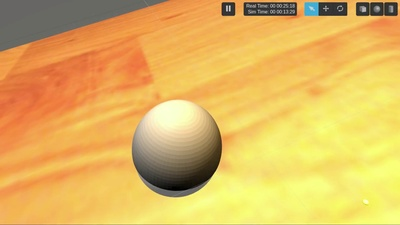mira_robot: (132, 99, 222, 198)
